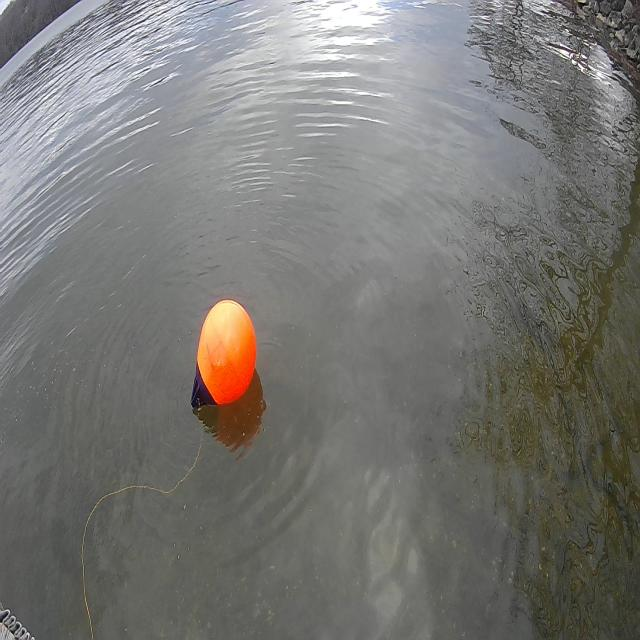Buoy: (187, 293, 261, 417)
